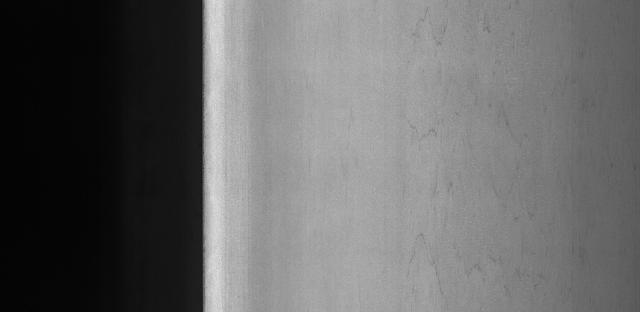silk_spot: (401, 18, 565, 292)
